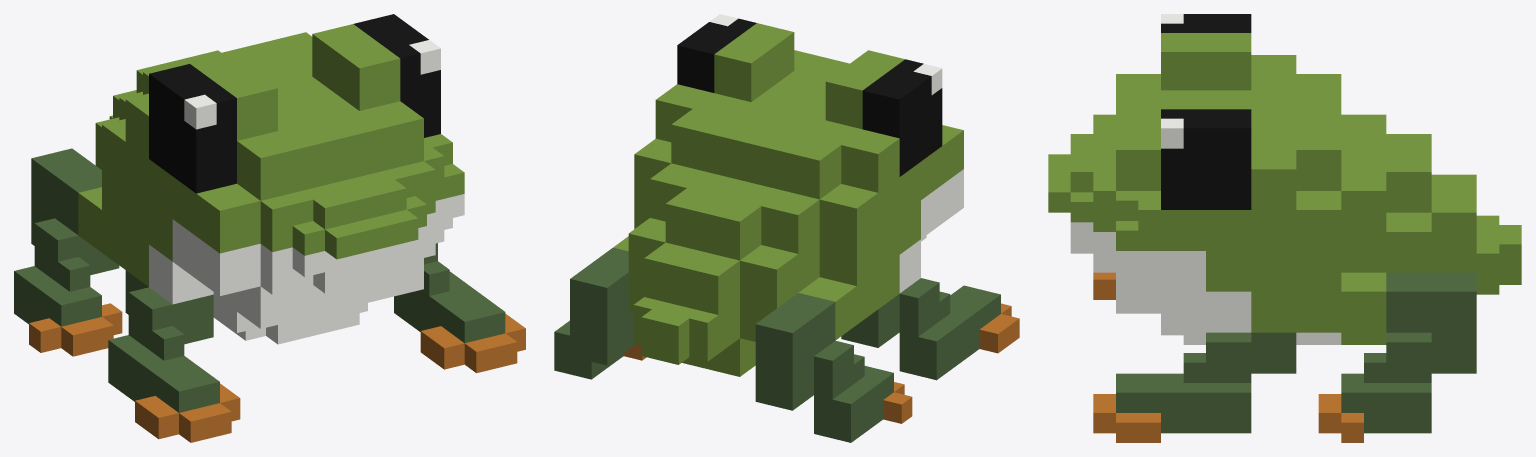
The model's file is frog.obj.
3 views of the same model, side by side, from view 1: azimuth 30°, elevation 25°; view 2: azimuth 150°, elevation 25°; view 3: azimuth 270°, elevation 25° (orthographic). The views are drawn at different scales.
Parts seen in each view (by area): view 1: frog; view 2: frog; view 3: frog.
Boxes of the visible parts, x1,y1,x2,y2 form: frog: [14, 14, 525, 442]; frog: [554, 14, 1019, 442]; frog: [1048, 14, 1521, 442].
Bounding box in the file's own units: 18 × 14 × 21.
